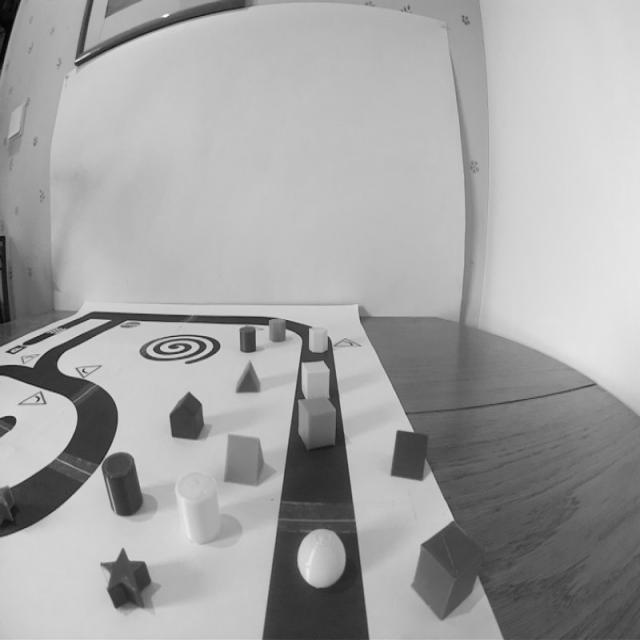ball: (293, 525, 347, 592)
cube: (404, 516, 489, 626), (296, 393, 340, 453), (298, 358, 334, 404)
cylinder: (172, 465, 225, 549), (100, 444, 145, 520), (237, 322, 258, 357), (268, 314, 286, 347)
hexagon: (306, 324, 329, 356)
home: (165, 388, 207, 442)
lineStraight: (254, 463, 381, 640)
nest: (135, 329, 224, 371)
star: (93, 542, 159, 616)
triangle: (224, 428, 268, 489), (387, 423, 432, 482), (233, 357, 264, 400)
